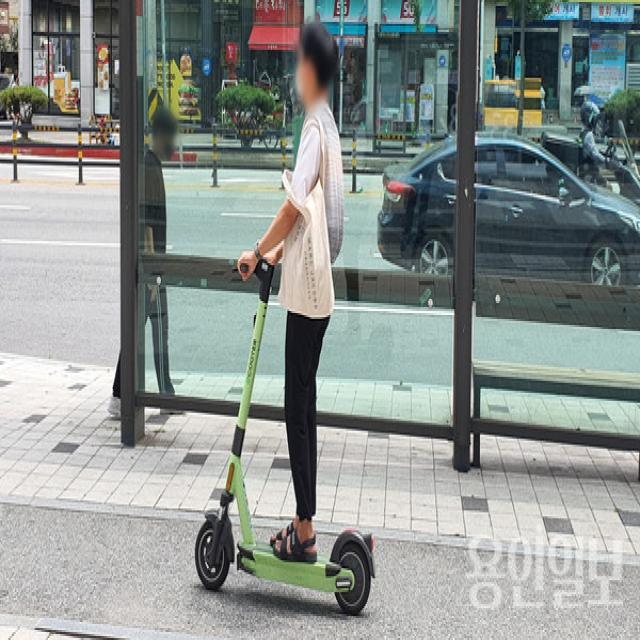non-helmet: (191, 15, 379, 622)
